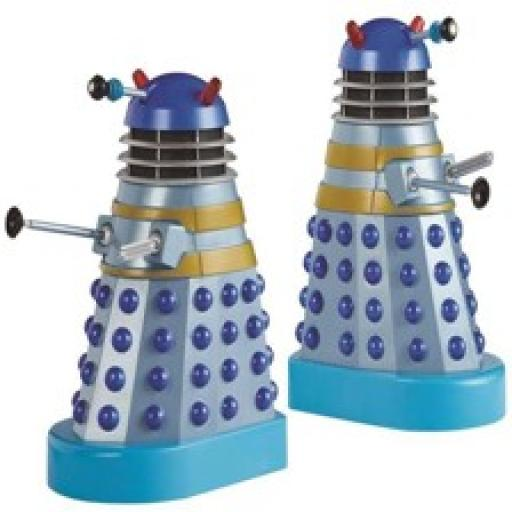dalek: (4, 64, 291, 501), (286, 6, 504, 432)
